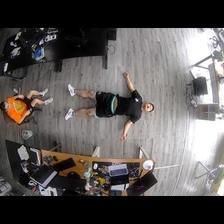fall: (64, 71, 156, 143)
normal: (1, 89, 54, 125)
